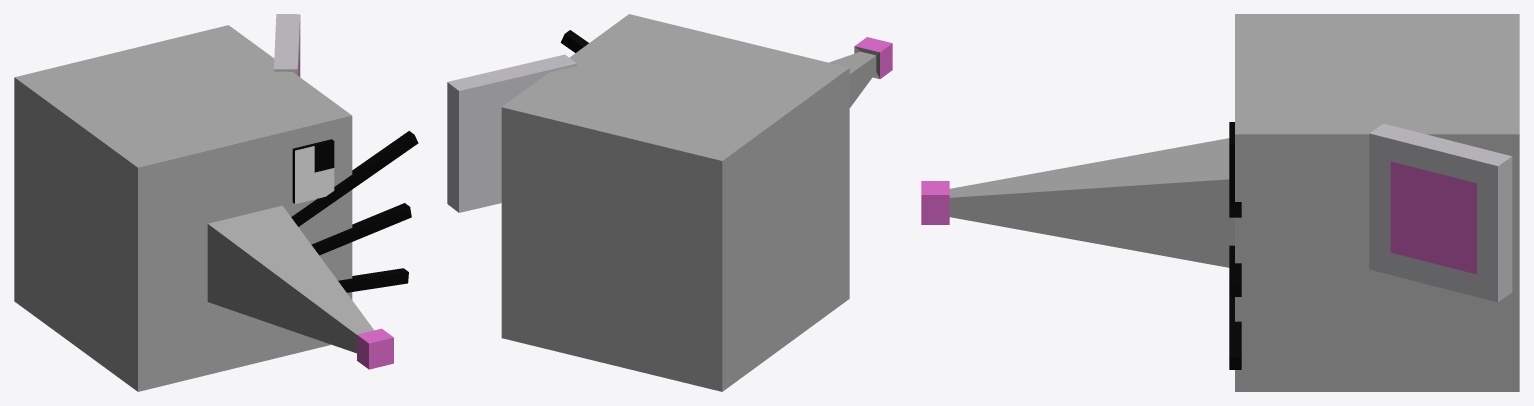
The model's file is nuutor_1781719015588_model.glb.
3 renders of one model, left to right at view 1: azimuth 30°, elevation 25°; view 2: azimuth 150°, elevation 25°; view 3: azimuth 270°, elevation 25°, orthographic. The views are drawn at different scales.
Visible parts, largest first — view 1: Cube, Cube.002, Cube.003, Cube.004, Cube.001, Cube.005; view 2: Cube, Cube.001; view 3: Cube, Cube.001, Cube.005, Cube.004.
Boxes of the visible parts, x1,y1,x2,y2 form: Cube: (14, 25, 393, 391); Cube.002: (292, 139, 334, 203); Cube.003: (291, 131, 418, 226); Cube.004: (311, 203, 411, 255); Cube.001: (274, 14, 300, 76); Cube.005: (338, 268, 408, 292); Cube: (501, 14, 892, 391); Cube.001: (447, 54, 576, 212); Cube: (921, 14, 1519, 391); Cube.001: (1369, 123, 1512, 302); Cube.005: (1229, 297, 1241, 369); Cube.004: (1229, 245, 1241, 296).
Size of the model in its own units: 2.59 by 2.02 by 4.21.
